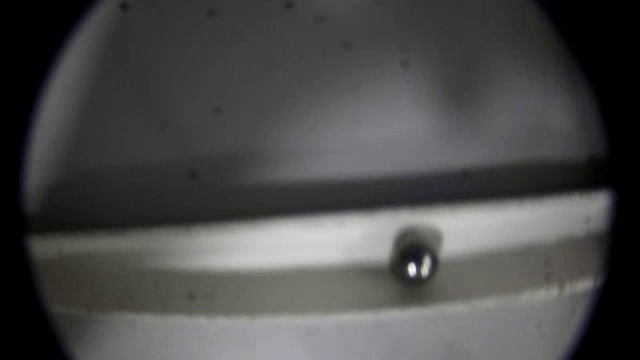gangzhu: (392, 242, 440, 286)
